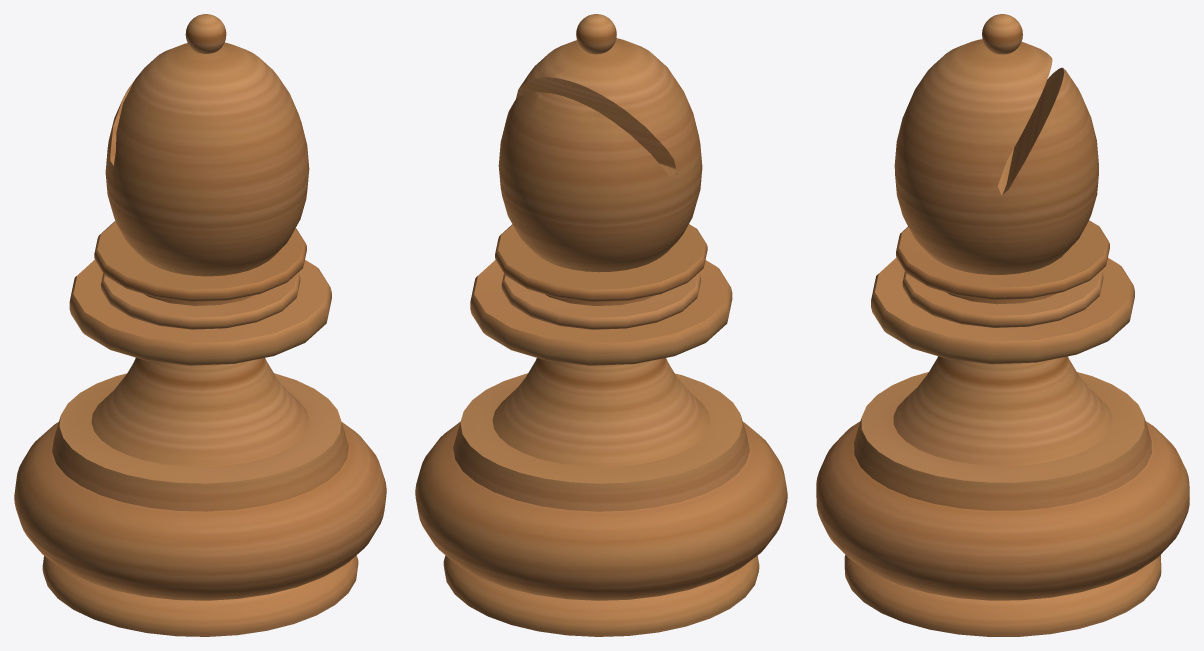
Rendered from WhiteBishop.FBX.
The picture shows the model from 3 angles, left to right: view 1: azimuth 30°, elevation 25°; view 2: azimuth 150°, elevation 25°; view 3: azimuth 270°, elevation 25°; orthographic projection.
Parts seen in each view (by area): view 1: BishopW2; view 2: BishopW2; view 3: BishopW2.
Boxes of the visible parts, x1,y1,x2,y2 form: BishopW2: (14, 14, 386, 636); BishopW2: (415, 14, 787, 636); BishopW2: (816, 14, 1189, 636).
Bounding box in the file's own units: 0.1816 × 0.1816 × 0.2988.
1 material, 1 textured.
